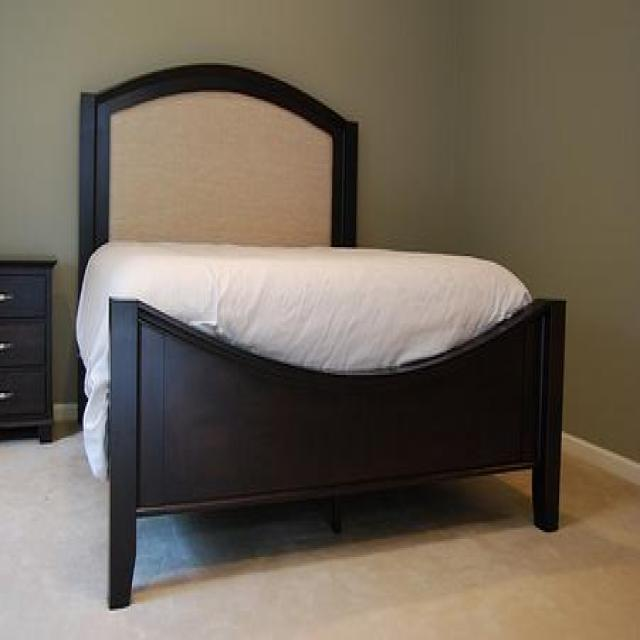bed: (75, 61, 566, 608)
